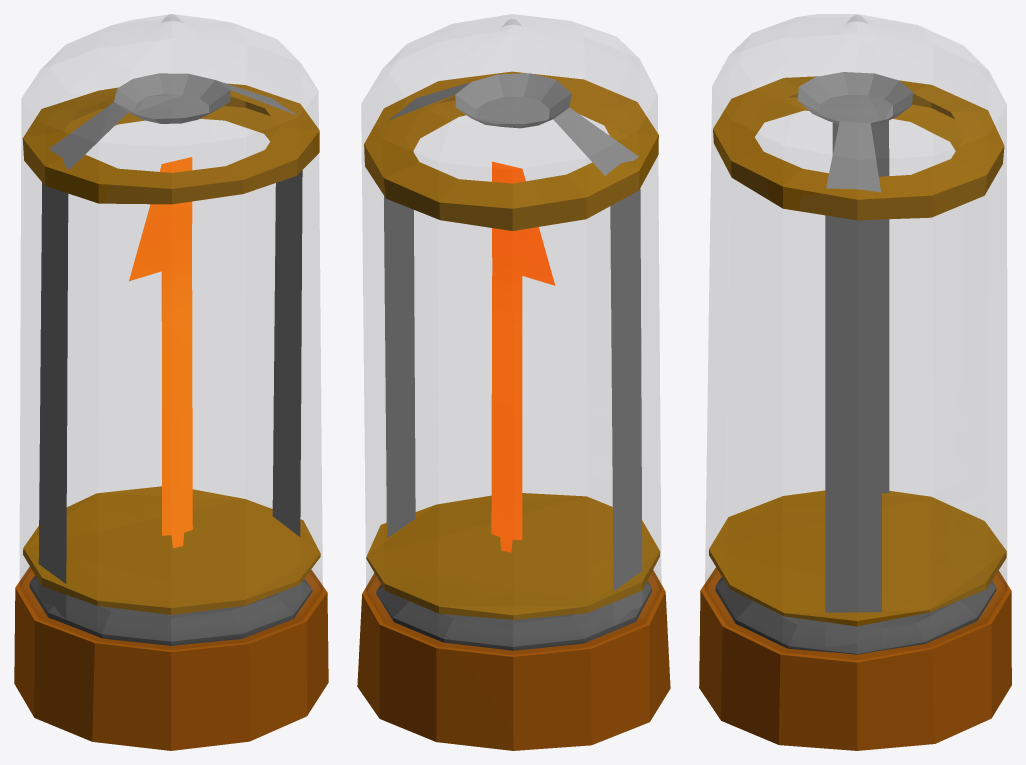
The model's file is SteamPunk_Number_01.glb.
The picture shows the model from 3 angles, left to right: view 1: azimuth 30°, elevation 25°; view 2: azimuth 150°, elevation 25°; view 3: azimuth 270°, elevation 25°; orthographic projection.
Parts seen in each view (by area): view 1: SteamPank_Number_01; view 2: SteamPank_Number_01; view 3: SteamPank_Number_01.
Part boxes in pixels (x1,y1,x2,y2): SteamPank_Number_01: (14,14,328,750); SteamPank_Number_01: (357,14,670,750); SteamPank_Number_01: (699,14,1011,750).
Size of what is drawn, in the model's own units: 0.4163 by 0.9798 by 0.4134.
Materials: 2 (2 with a texture image).
